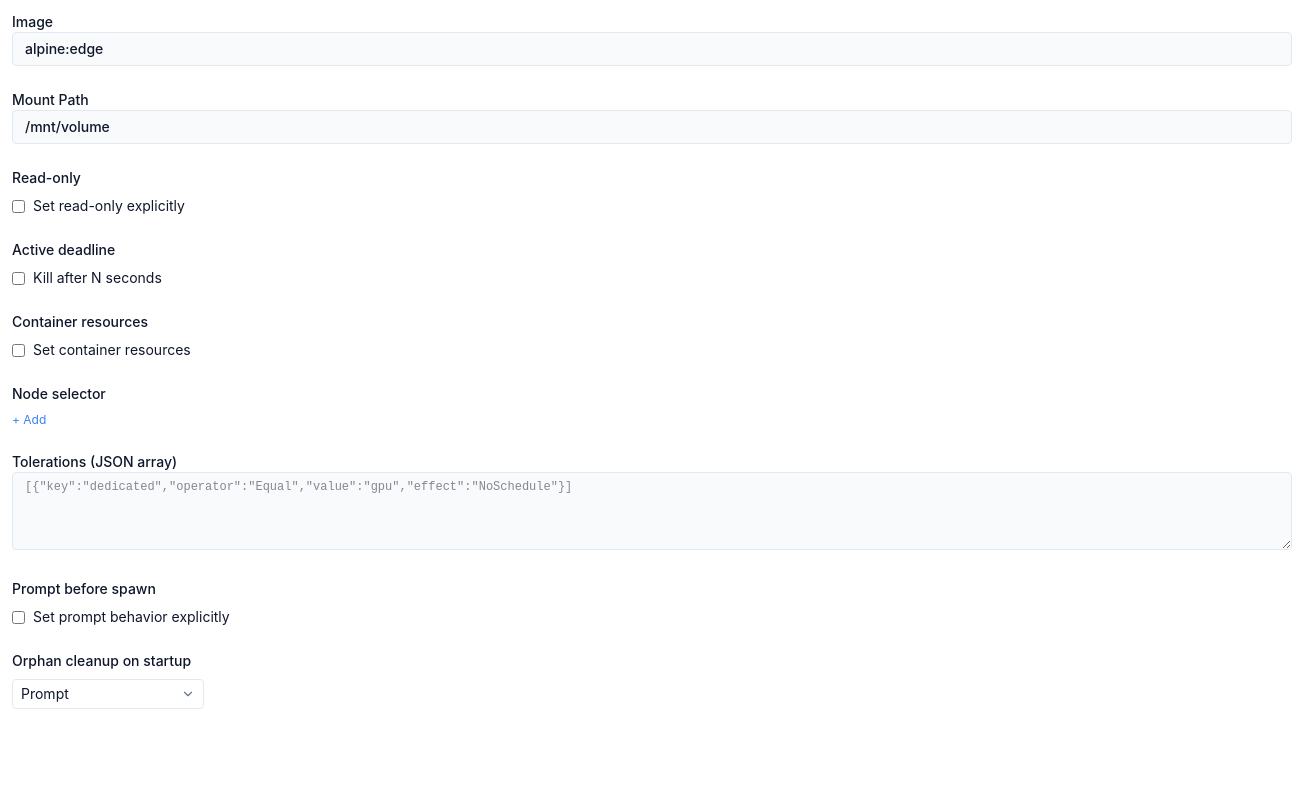
VolumeBrowserSettings › flags invalid mount path (missing leading slash)
The image size is (1304, 812).
Type "not-a-path" into the field with placeholder "/mnt/volume".
click(652, 127); type("not-a-path")  # box top-left (12, 110), bottom-right (1292, 144)
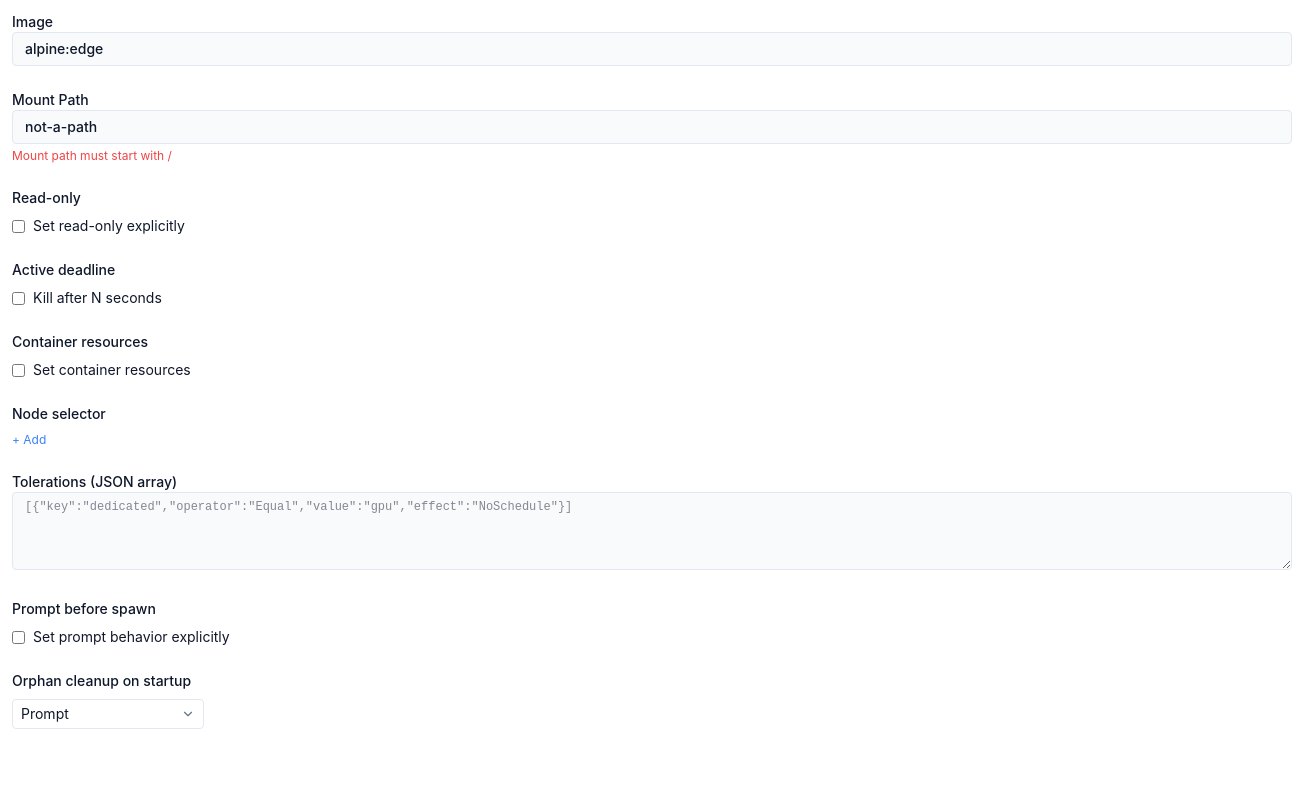
Expected: the text "Mount path must start with /" is shown, top-left (12, 148), bottom-right (172, 163)
